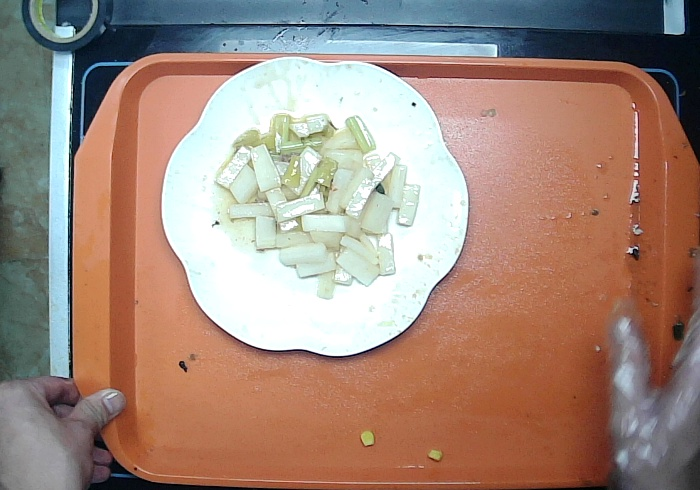HZYJPL-Bai_Se_Hua_Duo_Wan: (158, 50, 468, 359)
